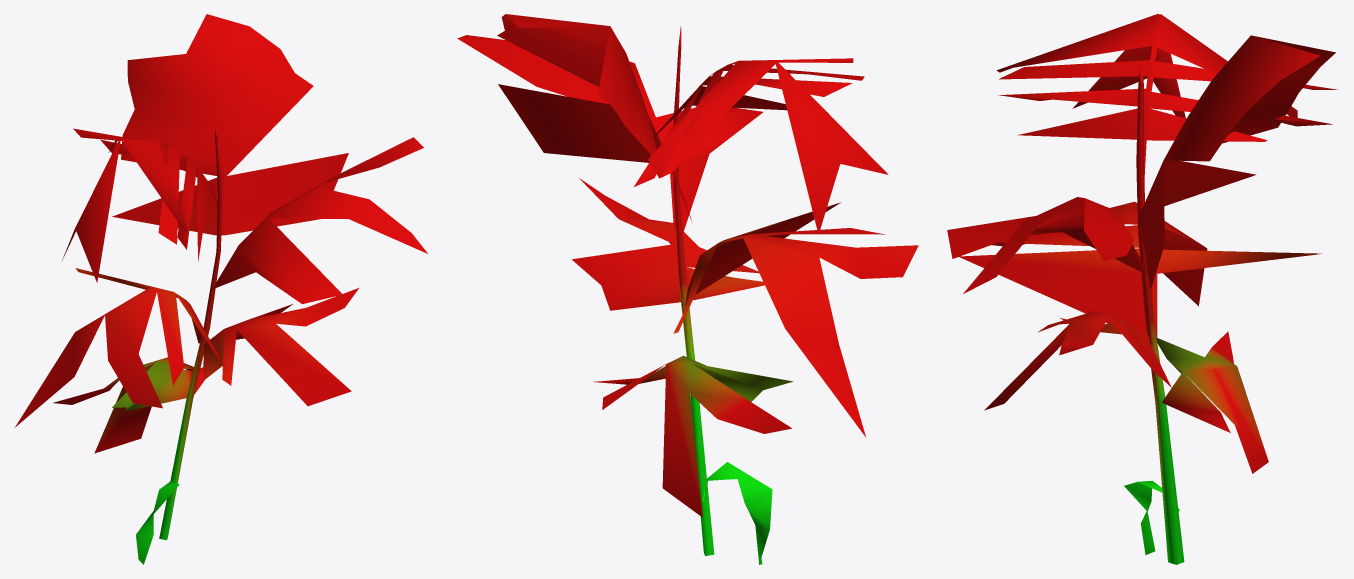
Rendered from Cane Palm_LOD1_Var4_siBmK.fbx.
3 renders of one model, left to right at view 1: azimuth 30°, elevation 25°; view 2: azimuth 150°, elevation 25°; view 3: azimuth 270°, elevation 25°, orthographic. The views are drawn at different scales.
Parts seen in each view (by area): view 1: _4bef_Var4_LOD1; view 2: _4bef_Var4_LOD1; view 3: _4bef_Var4_LOD1.
Part boxes in pixels (x1=…): _4bef_Var4_LOD1: x1=15, y1=14, x2=427, y2=564; _4bef_Var4_LOD1: x1=457, y1=14, x2=918, y2=564; _4bef_Var4_LOD1: x1=947, y1=14, x2=1337, y2=564.
Size of the model in its own units: 16.18 by 19.41 by 11.9.
